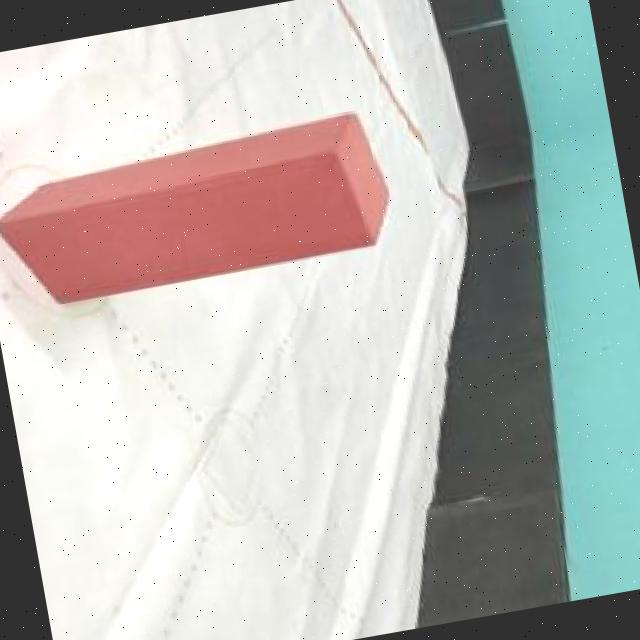redbox: (0, 107, 401, 314)
